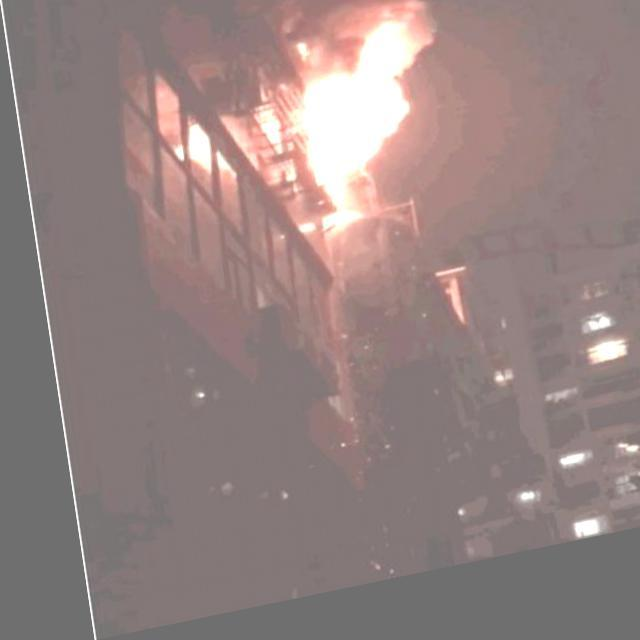Fire: (172, 20, 430, 274)
